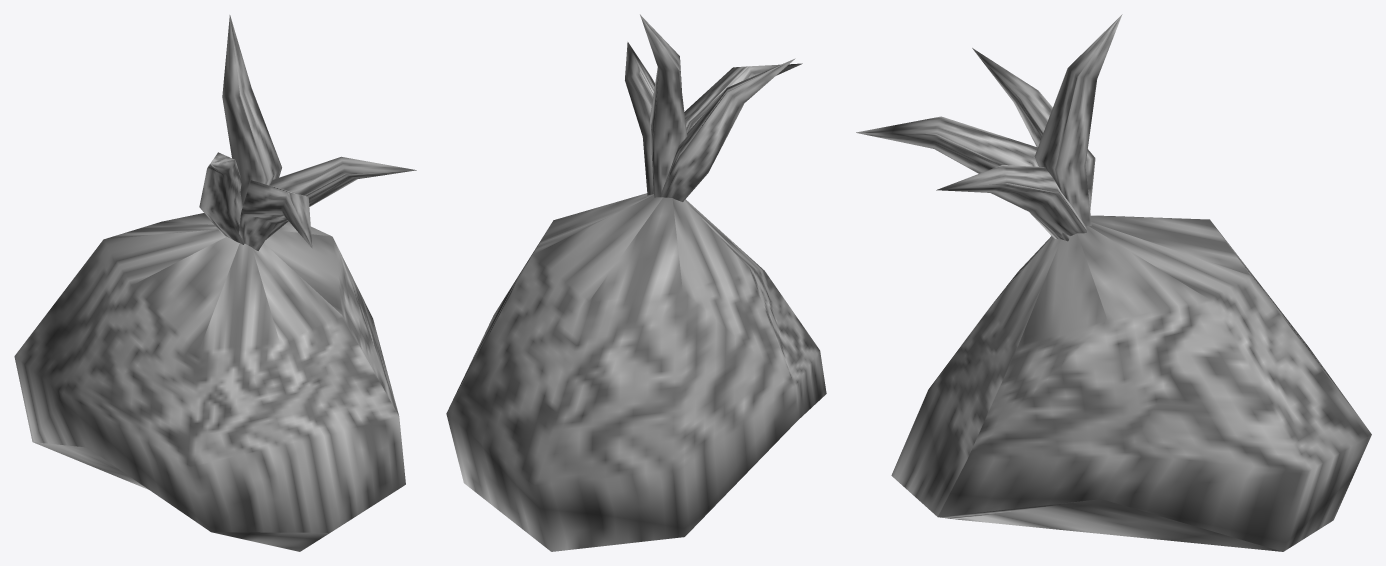
Rendered from Wig_F_Hair_Back.fbx.
3 views of the same model, side by side, from view 1: azimuth 30°, elevation 25°; view 2: azimuth 150°, elevation 25°; view 3: azimuth 270°, elevation 25° (orthographic). The views are drawn at different scales.
Visible parts, largest first — view 1: BoxOfJars003; view 2: BoxOfJars003; view 3: BoxOfJars003.
Part boxes in pixels (bbox=[...]): BoxOfJars003: bbox=[14, 15, 416, 551]; BoxOfJars003: bbox=[446, 14, 826, 551]; BoxOfJars003: bbox=[856, 14, 1371, 551].
Size of the model in its own units: 11.88 by 17.56 by 16.12.
